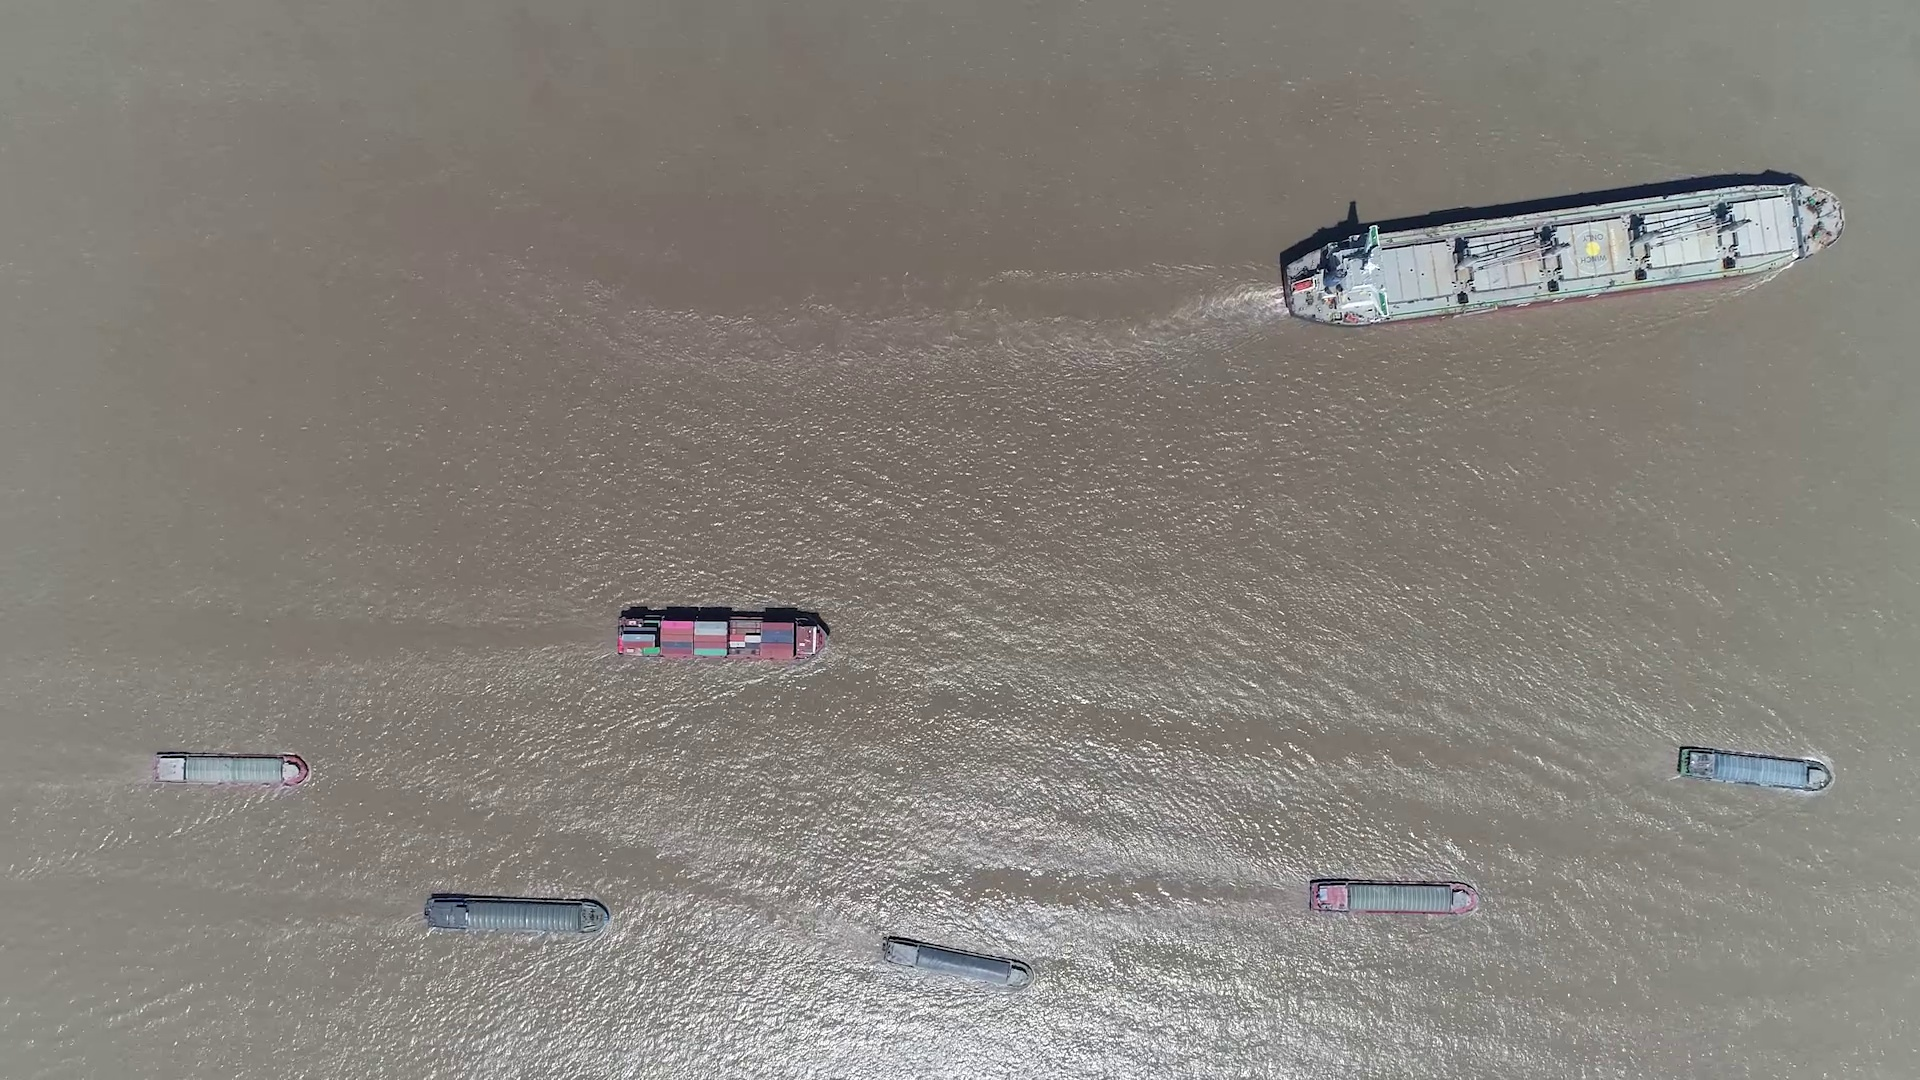ship: (1279, 183, 1845, 324), (616, 612, 828, 665), (423, 893, 608, 934), (880, 938, 1029, 986), (1676, 746, 1832, 793), (1309, 878, 1478, 916), (152, 753, 309, 787)
